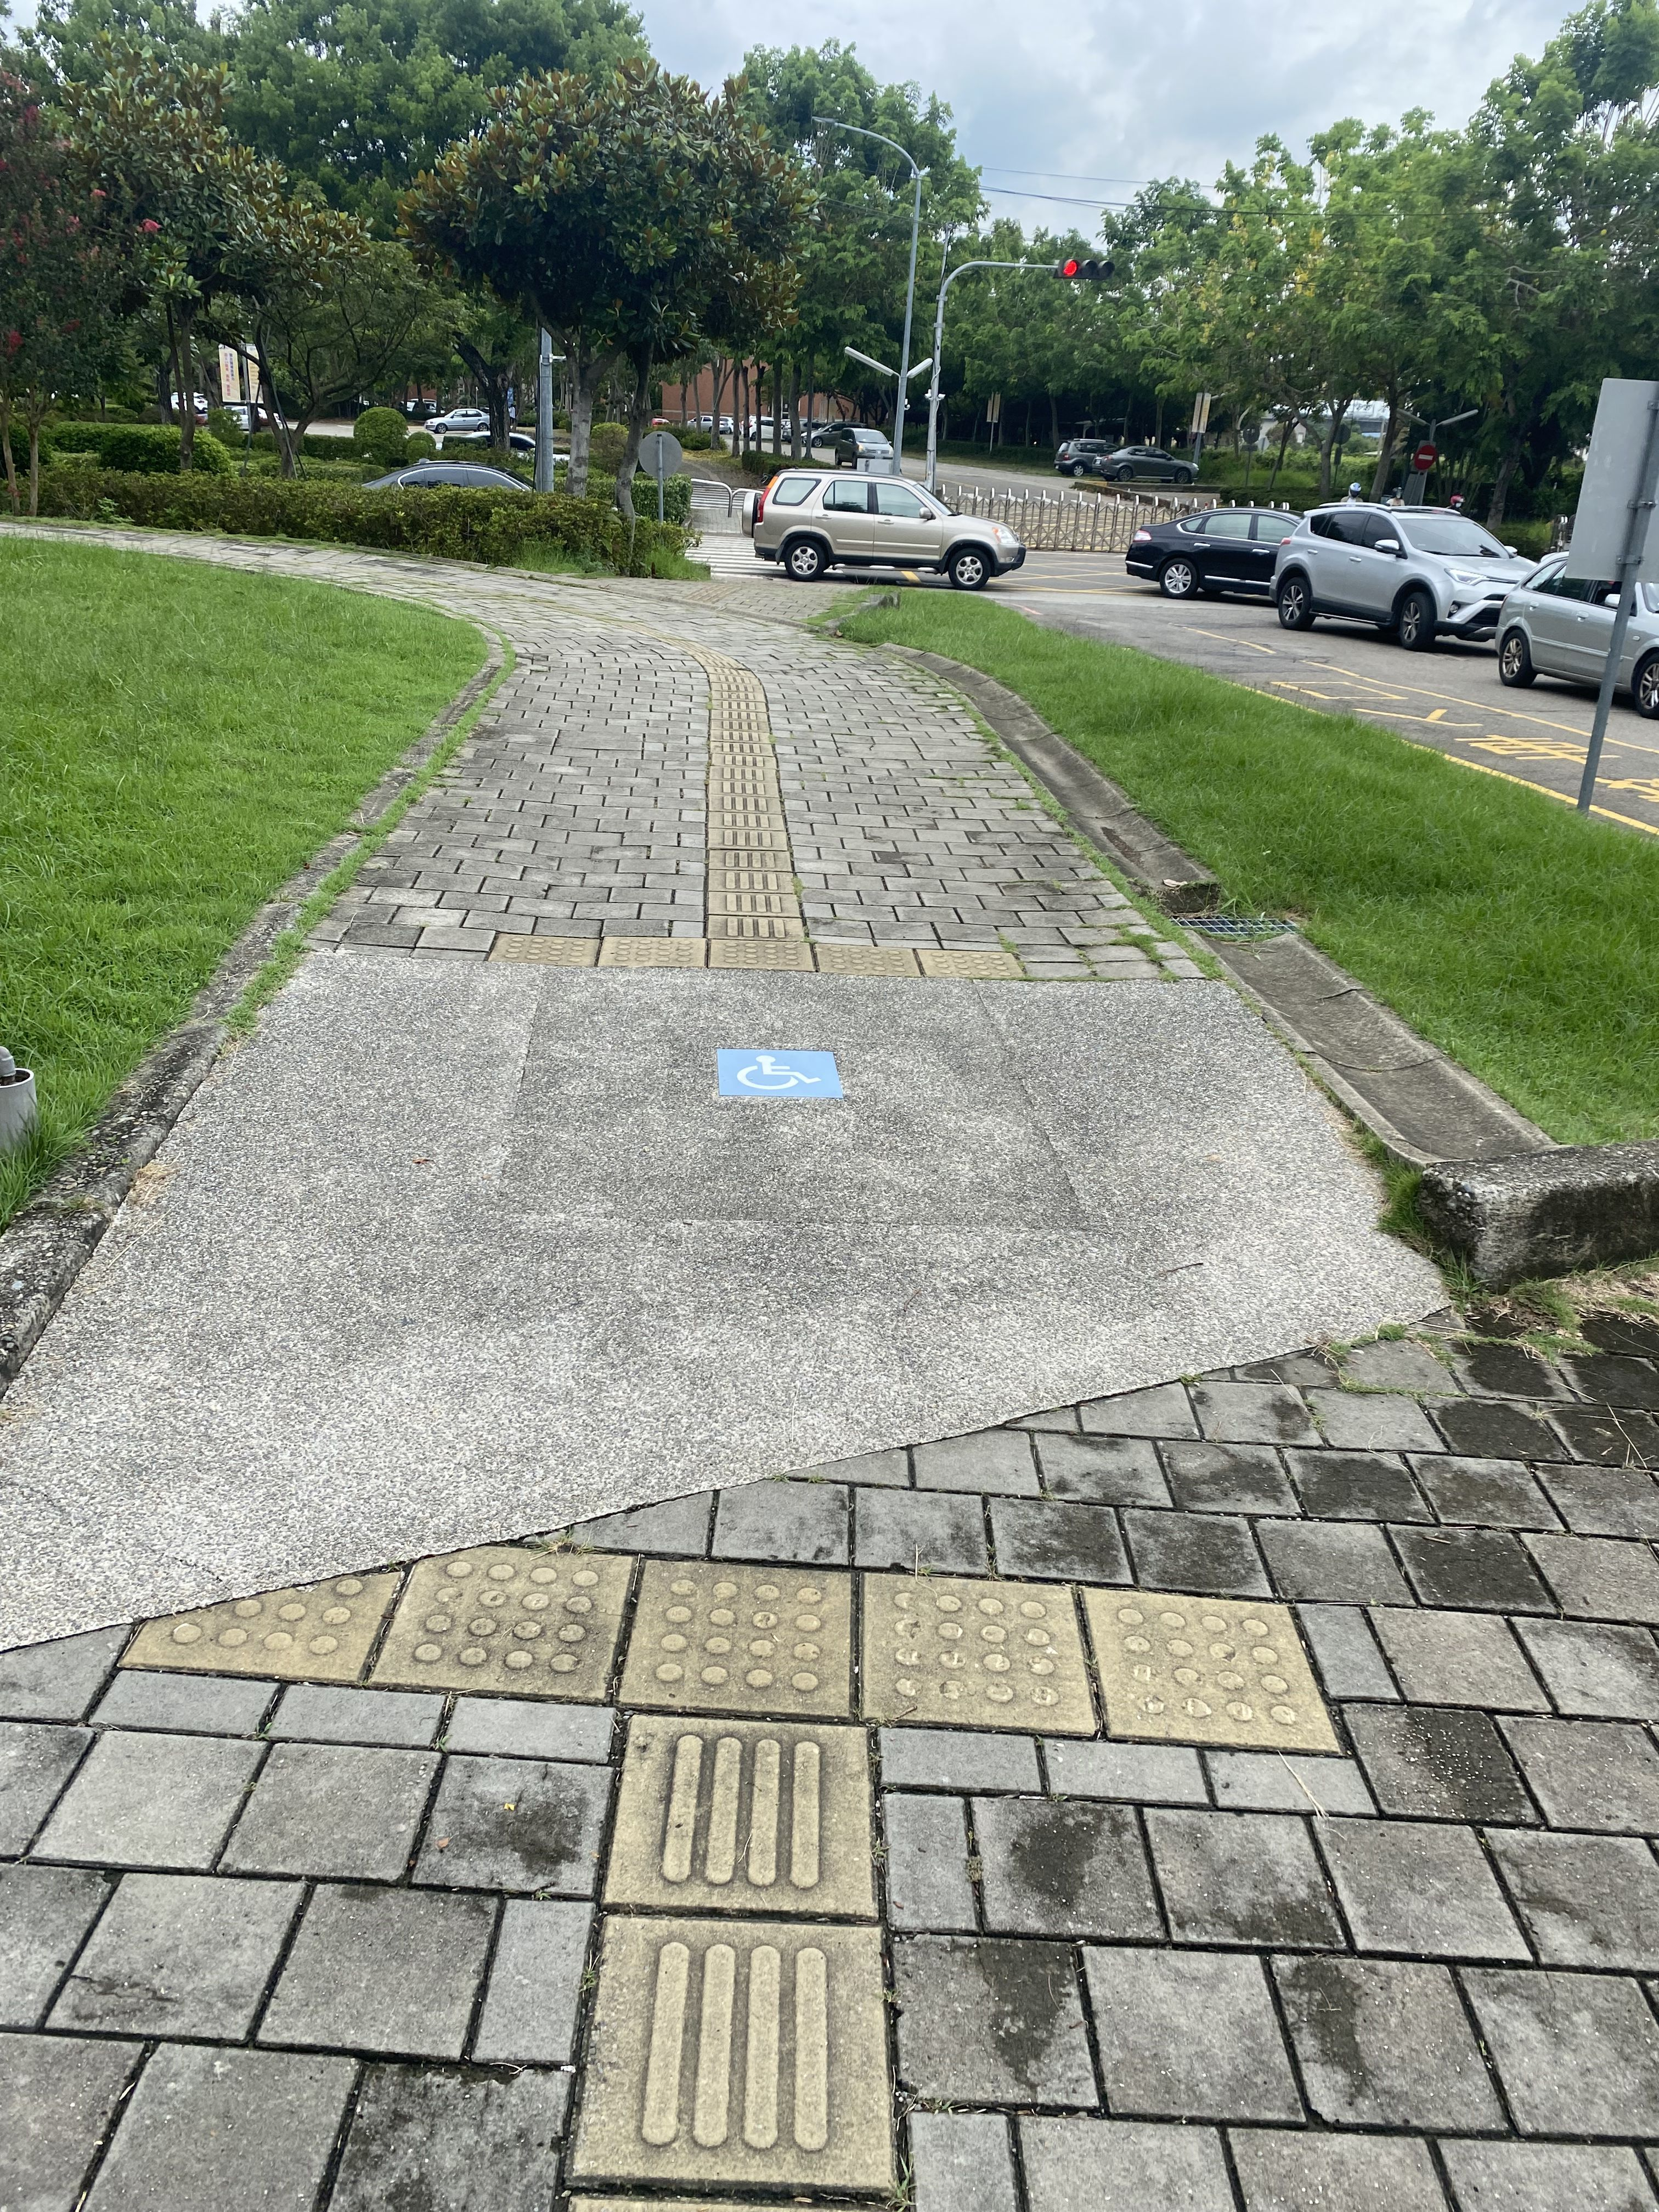sidewalk: (3, 519, 1659, 2212)
